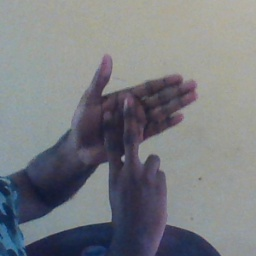N: (59, 47, 200, 214)
